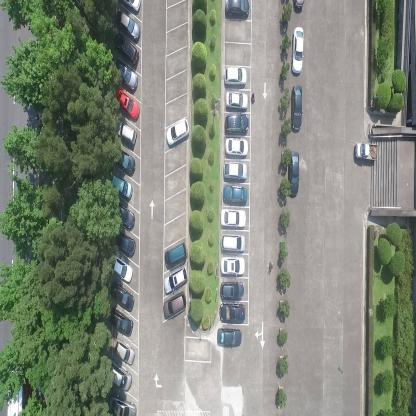car: (106, 357, 132, 393), (114, 30, 139, 65), (109, 279, 134, 313), (114, 58, 138, 92), (108, 304, 133, 336), (162, 289, 186, 321), (116, 10, 140, 42), (115, 88, 139, 120), (163, 264, 189, 293), (166, 116, 190, 146), (113, 200, 135, 232), (164, 242, 187, 271), (111, 171, 133, 200), (111, 254, 133, 283), (114, 338, 136, 367), (291, 27, 304, 76), (114, 147, 135, 177), (290, 84, 303, 132), (115, 120, 137, 148), (113, 230, 135, 258), (109, 394, 137, 416), (224, 111, 249, 135), (220, 207, 247, 229), (219, 301, 245, 323), (288, 150, 300, 197), (216, 326, 242, 347), (223, 65, 248, 86), (355, 141, 378, 163), (223, 160, 247, 181), (222, 184, 248, 203), (219, 257, 246, 275), (226, 89, 248, 111), (221, 233, 246, 252), (219, 281, 244, 300), (224, 0, 250, 18), (224, 138, 249, 156), (119, 0, 142, 15)
